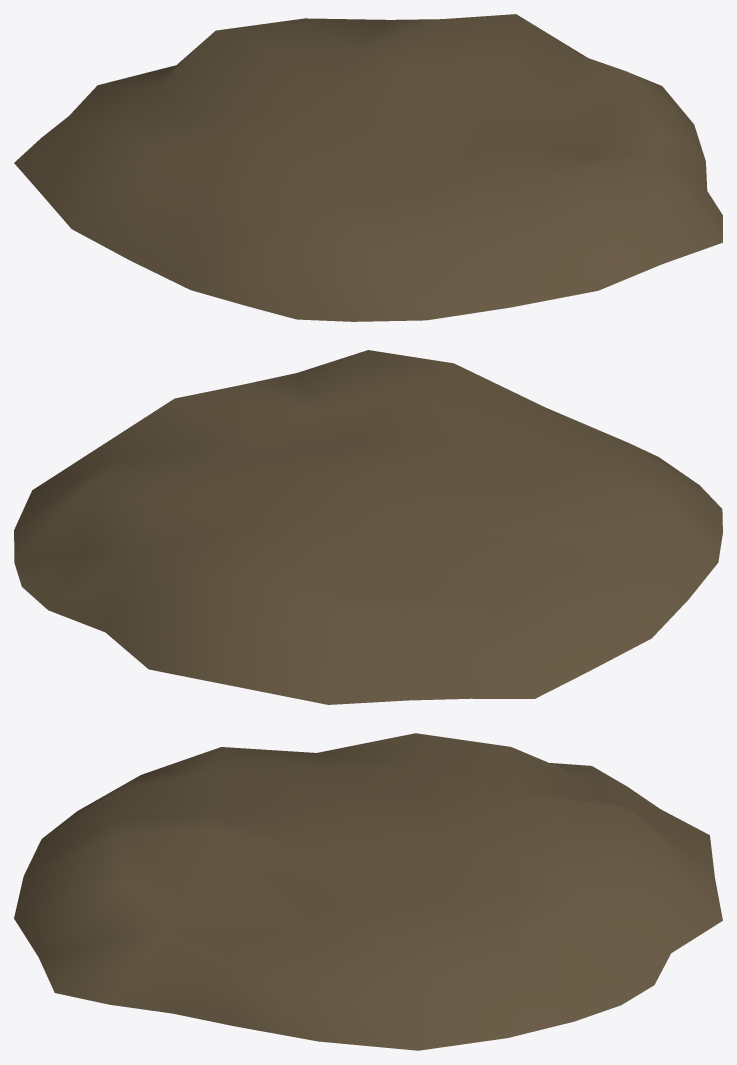
File: noise_rocks_2.fbx
3 views of the same model, one above another, from view 1: azimuth 30°, elevation 25°; view 2: azimuth 150°, elevation 25°; view 3: azimuth 270°, elevation 25° (orthographic). The views are drawn at different scales.
Parts seen in each view (by area): view 1: noise_rocks_2; view 2: noise_rocks_2; view 3: noise_rocks_2.
Part boxes in pixels (bbox=[...]): noise_rocks_2: bbox=[14, 14, 722, 321]; noise_rocks_2: bbox=[14, 350, 722, 704]; noise_rocks_2: bbox=[14, 733, 722, 1050].
Bounding box in the file's own units: 351 × 49.55 × 352.
